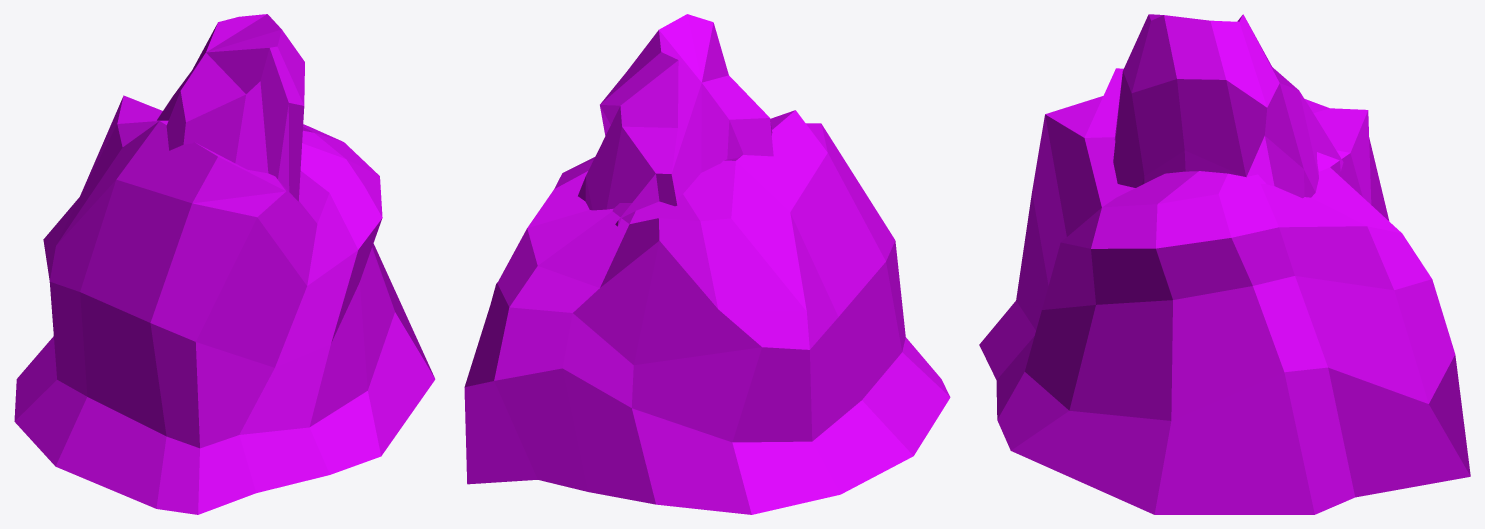
File: TallRocks.FBX
3 renders of one model, left to right at view 1: azimuth 30°, elevation 25°; view 2: azimuth 150°, elevation 25°; view 3: azimuth 270°, elevation 25°, orthographic. The views are drawn at different scales.
Visible parts, largest first — view 1: Object179, Object180; view 2: Object179, Object180; view 3: Object179, Object180.
Part boxes in pixels (box(x1,y1,x2,y2)): Object179: box(14, 95, 435, 514); Object180: box(157, 14, 304, 201); Object179: box(464, 110, 950, 514); Object180: box(578, 14, 773, 226); Object179: box(979, 68, 1470, 514); Object180: box(1113, 14, 1343, 198).
Bounding box in the file's own units: 499 × 517 × 487.
